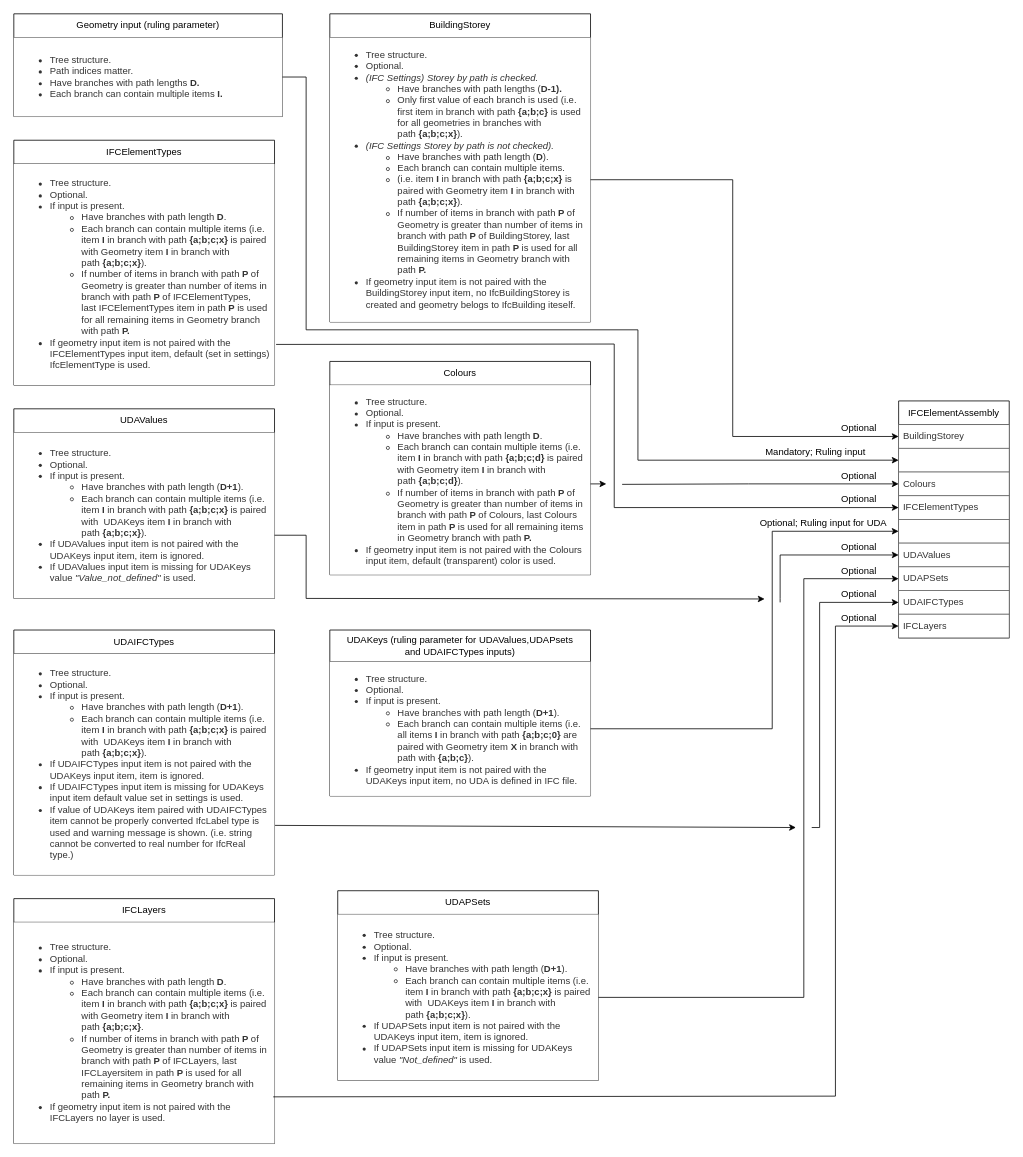
Image size: 1023x1157. Some labels were removed from this diagram. Here are the shapes that lost their labels. From the top down, the centre of each, then its label:
the point at 953,460: Geometry
the point at 953,531: UDAKeys
